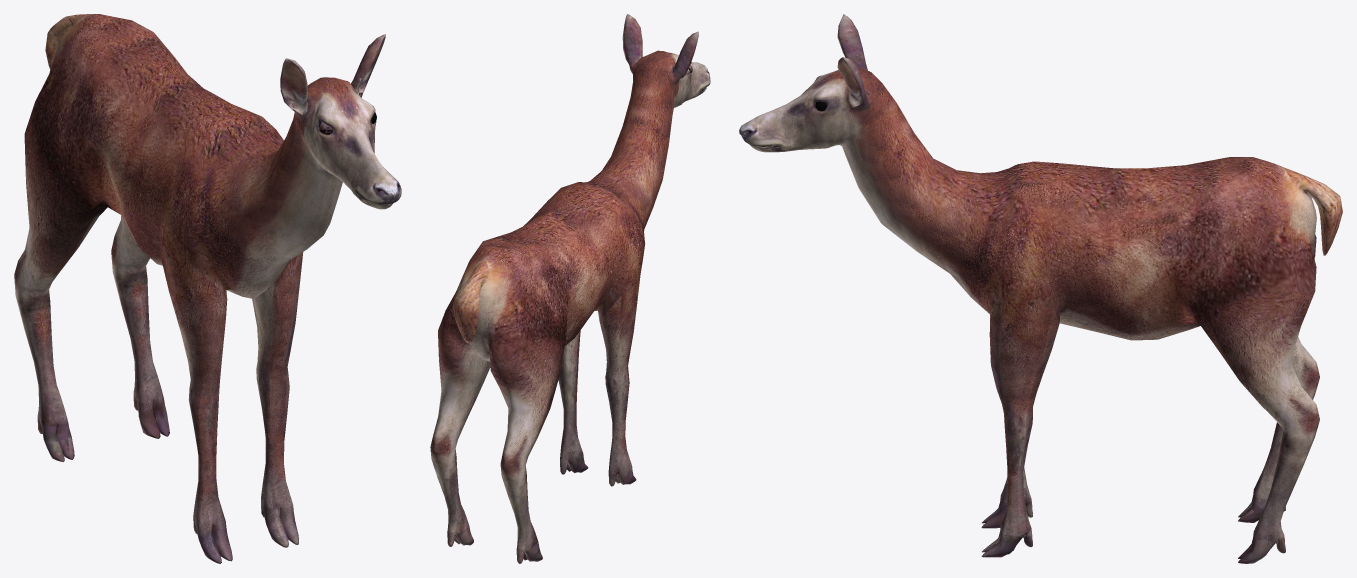
Rendered from deer.glb.
3 renders of one model, left to right at view 1: azimuth 30°, elevation 25°; view 2: azimuth 150°, elevation 25°; view 3: azimuth 270°, elevation 25°, orthographic. The views are drawn at different scales.
Visible parts, largest first — view 1: Body, Head; view 2: Body, Head; view 3: Body, Head.
Part boxes in pixels (x1,y1,x2,y2): Body: (14, 14, 376, 563); Head: (280, 34, 401, 209); Body: (430, 62, 692, 563); Head: (622, 14, 710, 107); Body: (815, 72, 1342, 563); Head: (739, 14, 873, 152).
Size of the model in its own units: 153 by 566 by 614.
2 materials, 2 textured.
